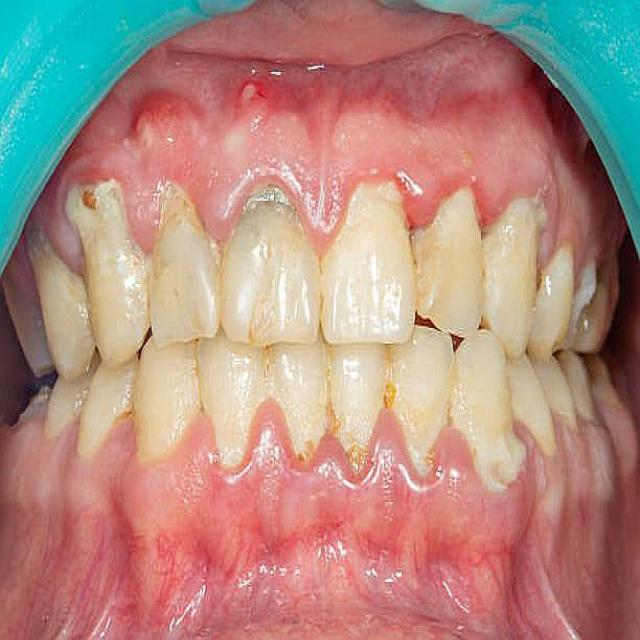caries: (572, 249, 617, 341), (6, 370, 46, 432)
